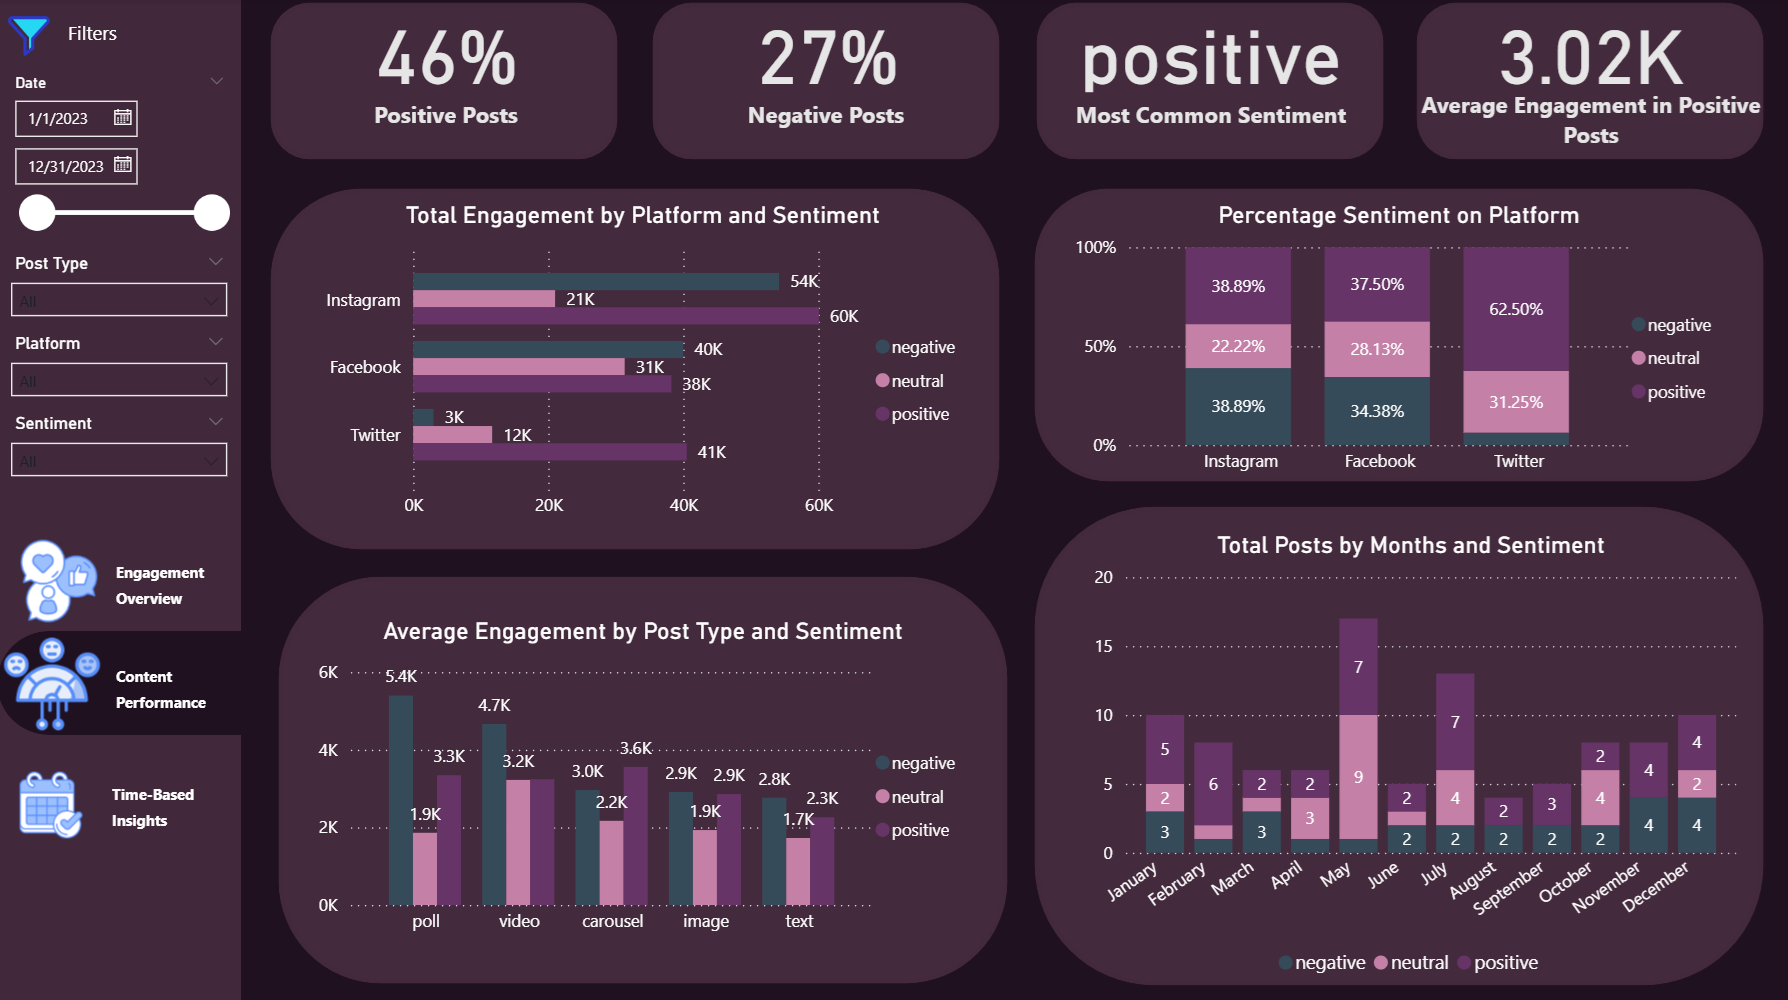

The dashboard page shown, as its layout file describes it:
{"tool":"powerbi","page":{"name":"Content Performance","canvas":[1280,720],"ordinal":2},"visuals":[{"type":"shape","box":[0,0,174.3,720],"z":0},{"type":"shape","box":[0,452.9,175.7,74.3],"z":1000},{"type":"shape","box":[191.4,0,255.7,120],"z":2000},{"type":"shape","box":[464.3,0,255.7,120],"z":3000},{"type":"shape","box":[738.6,0,255.7,120],"z":4000},{"type":"shape","box":[1010,0,255.7,120],"z":5000},{"type":"shape","box":[191.4,132.9,528.6,265.7],"z":6000},{"type":"shape","box":[737.1,132.9,528.6,217.1],"z":7000},{"type":"shape","box":[197.1,410,528.6,298.6],"z":8000},{"type":"shape","box":[737.1,360,528.6,350],"z":9000},{"type":"card","fields":{"Values":["fact_post.Positive Posts"]},"box":[242.9,0,157.1,72.9],"z":10000},{"type":"textbox","box":[242.9,67.1,155.7,42.9],"z":11000},{"type":"card","fields":{"Values":["fact_post.Negative Posts"]},"box":[512.9,0,161.4,72.9],"z":12000},{"type":"textbox","box":[514.3,67.1,155.7,42.9],"z":13000},{"type":"card","fields":{"Values":["fact_post.Top Sentiment"]},"box":[757.1,0,220,72.9],"z":14000},{"type":"textbox","box":[757.1,67.1,220,42.9],"z":15000},{"type":"card","fields":{"Values":["fact_post.Avg Eng Positive"]},"box":[1028.6,0,220,72.9],"z":16000},{"type":"textbox","box":[1011.4,60,254.3,64.3],"z":17000},{"type":"clusteredBarChart","title":"Total Engagement by Platform and Sentiment","fields":{"Category":["dim_platform.platform_name"],"Y":["Sum(fact_post.Total Engagement)"],"Series":["dim_sentiment.sentiment_label"]},"box":[224.3,145.7,474.3,235.7],"z":18000},{"type":"clusteredColumnChart","title":"Average Engagement by Post Type and Sentiment","fields":{"Category":["dim_post_type.post_type"],"Y":["Avg(fact_post.Total Engagement)"],"Series":["dim_sentiment.sentiment_label"]},"box":[224.3,442.9,474.3,235.7],"z":19000},{"type":"columnChart","title":"Total Posts by Months and Sentiment","fields":{"Category":["dim_time.date.Variation.Date Hierarchy.Month"],"Series":["dim_sentiment.sentiment_label"],"Y":["Count(fact_post.post_id)"]},"box":[772.9,381.4,474.3,327.1],"z":20000},{"type":"hundredPercentStackedColumnChart","title":"Percentage Sentiment on Platform","fields":{"Category":["dim_platform.platform_name"],"Series":["dim_sentiment.sentiment_label"],"Y":["Count(fact_post.post_id)"]},"box":[764.3,145.7,474.3,204.3],"z":21000},{"type":"actionButton","box":[0,451.4,175.7,78.6],"z":23000},{"type":"textbox","box":[77.1,554.3,97.1,51.4],"z":25000},{"type":"textbox","box":[80,470,95.7,50],"z":26000},{"type":"textbox","box":[80,395.7,94.3,57.1],"z":27000},{"type":"image","box":[0,4.3,45.7,45.7],"z":28000},{"type":"textbox","box":[45.7,11.4,74.3,32.9],"z":29000},{"type":"slicer","fields":{"Values":["dim_time.Date"]},"box":[0,50,174.3,122.9],"z":30000},{"type":"slicer","fields":{"Values":["dim_post_type.post_type"]},"box":[0,178.6,174.3,67.1],"z":31000},{"type":"slicer","fields":{"Values":["dim_platform.platform_name"]},"box":[0,235.7,174.3,67.1],"z":32000},{"type":"slicer","fields":{"Values":["dim_sentiment.sentiment_label"]},"box":[0,292.9,174.3,67.1],"z":33000},{"type":"actionButton","box":[10,382.9,165.7,68.6],"z":33500},{"type":"actionButton","box":[10,548.6,165.7,57.1],"z":34000}]}

Visuals, with their boxes on the page's 1280x720 design canvas (x1, y1, x2, y2). These are canvas units, not pixel positions in the 1788x1000 screenshot, which may show the page scaled, cropped or inside an application window:
shape: Rect(0, 0, 174, 720)
shape: Rect(0, 453, 176, 527)
shape: Rect(191, 0, 447, 120)
shape: Rect(464, 0, 720, 120)
shape: Rect(739, 0, 994, 120)
shape: Rect(1010, 0, 1266, 120)
shape: Rect(191, 133, 720, 399)
shape: Rect(737, 133, 1266, 350)
shape: Rect(197, 410, 726, 709)
shape: Rect(737, 360, 1266, 710)
card - fact_post.Positive Posts: Rect(243, 0, 400, 73)
textbox: Rect(243, 67, 399, 110)
card - fact_post.Negative Posts: Rect(513, 0, 674, 73)
textbox: Rect(514, 67, 670, 110)
card - fact_post.Top Sentiment: Rect(757, 0, 977, 73)
textbox: Rect(757, 67, 977, 110)
card - fact_post.Avg Eng Positive: Rect(1029, 0, 1249, 73)
textbox: Rect(1011, 60, 1266, 124)
"Total Engagement by Platform and Sentiment" clusteredBarChart: Rect(224, 146, 699, 381)
"Average Engagement by Post Type and Sentiment" clusteredColumnChart: Rect(224, 443, 699, 679)
"Total Posts by Months and Sentiment" columnChart: Rect(773, 381, 1247, 708)
"Percentage Sentiment on Platform" hundredPercentStackedColumnChart: Rect(764, 146, 1239, 350)
actionButton: Rect(0, 451, 176, 530)
textbox: Rect(77, 554, 174, 606)
textbox: Rect(80, 470, 176, 520)
textbox: Rect(80, 396, 174, 453)
image: Rect(0, 4, 46, 50)
textbox: Rect(46, 11, 120, 44)
slicer - dim_time.Date: Rect(0, 50, 174, 173)
slicer - dim_post_type.post_type: Rect(0, 179, 174, 246)
slicer - dim_platform.platform_name: Rect(0, 236, 174, 303)
slicer - dim_sentiment.sentiment_label: Rect(0, 293, 174, 360)
actionButton: Rect(10, 383, 176, 452)
actionButton: Rect(10, 549, 176, 606)
